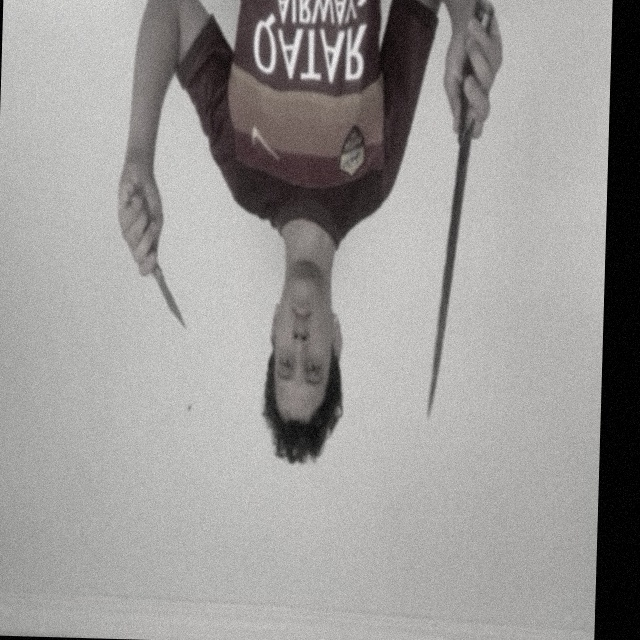Sharp-Object: (427, 123, 472, 418), (156, 275, 188, 331)
